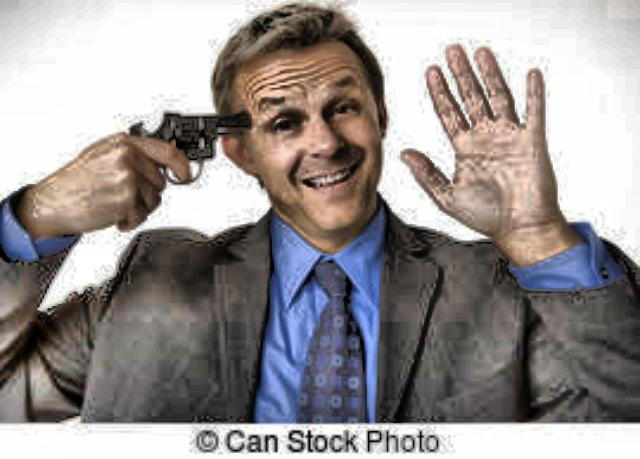pistol: (128, 107, 252, 187)
